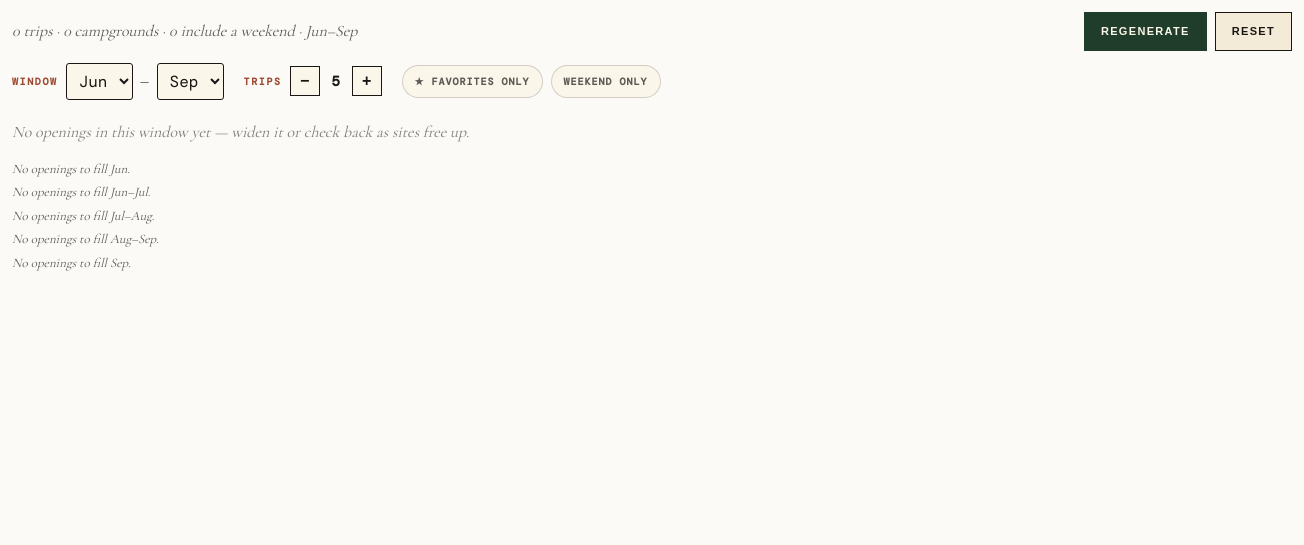
Test case: SummerPlan › widening the window to start in May surfaces a May opening
Check: the text "May CG" is not shown
Select "May" in the dropdown named "Start month" at (99, 81), box [66, 62, 133, 100]
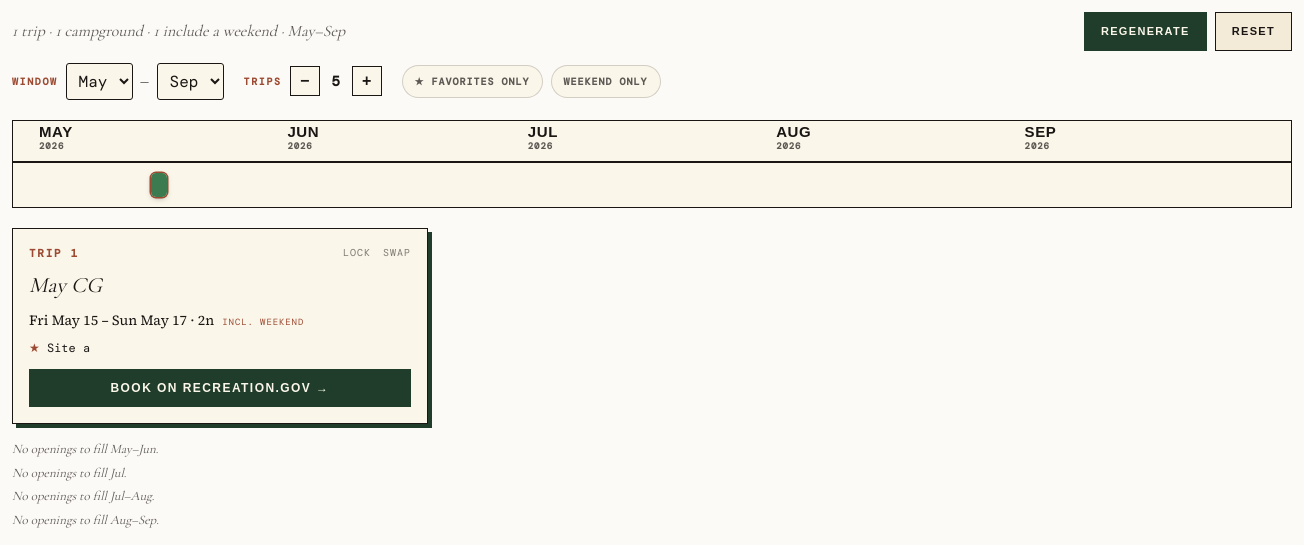
Check: the text "May CG" is shown, box [29, 272, 102, 298]
